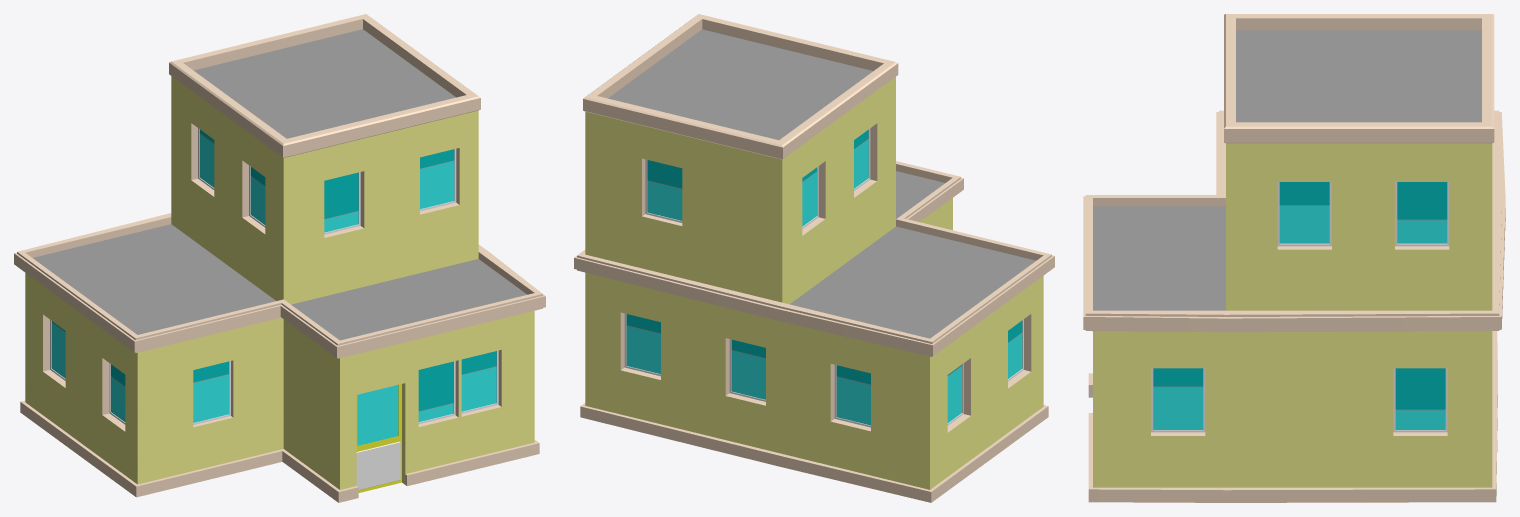
Rendered from SM_House_06_02.FBX.
3 renders of one model, left to right at view 1: azimuth 30°, elevation 25°; view 2: azimuth 150°, elevation 25°; view 3: azimuth 270°, elevation 25°, orthographic. The views are drawn at different scales.
Parts seen in each view (by area): view 1: SM_House_06_02; view 2: SM_House_06_02; view 3: SM_House_06_02.
Boxes of the visible parts, left/top/right/bottom form: SM_House_06_02: left=14, top=14, right=545, bottom=502; SM_House_06_02: left=574, top=14, right=1054, bottom=502; SM_House_06_02: left=1083, top=14, right=1505, bottom=502.
Bounding box in the file's own units: 7.35 × 6.2 × 6.35.
1 material, 1 textured.
